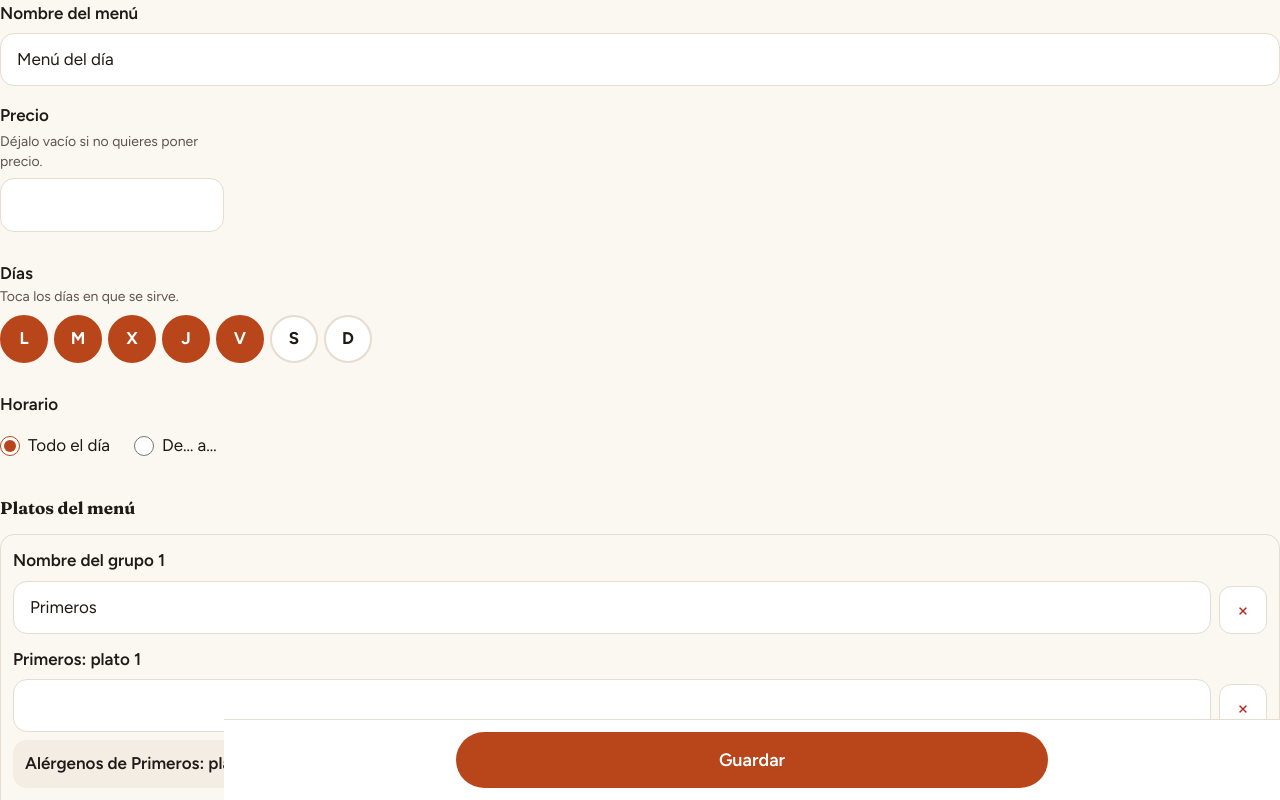
Test case: EditorMenu › no guarda sin días y lo explica
Step 1. Click the button named "Lunes" → (24, 339), box [0,315,48,363]
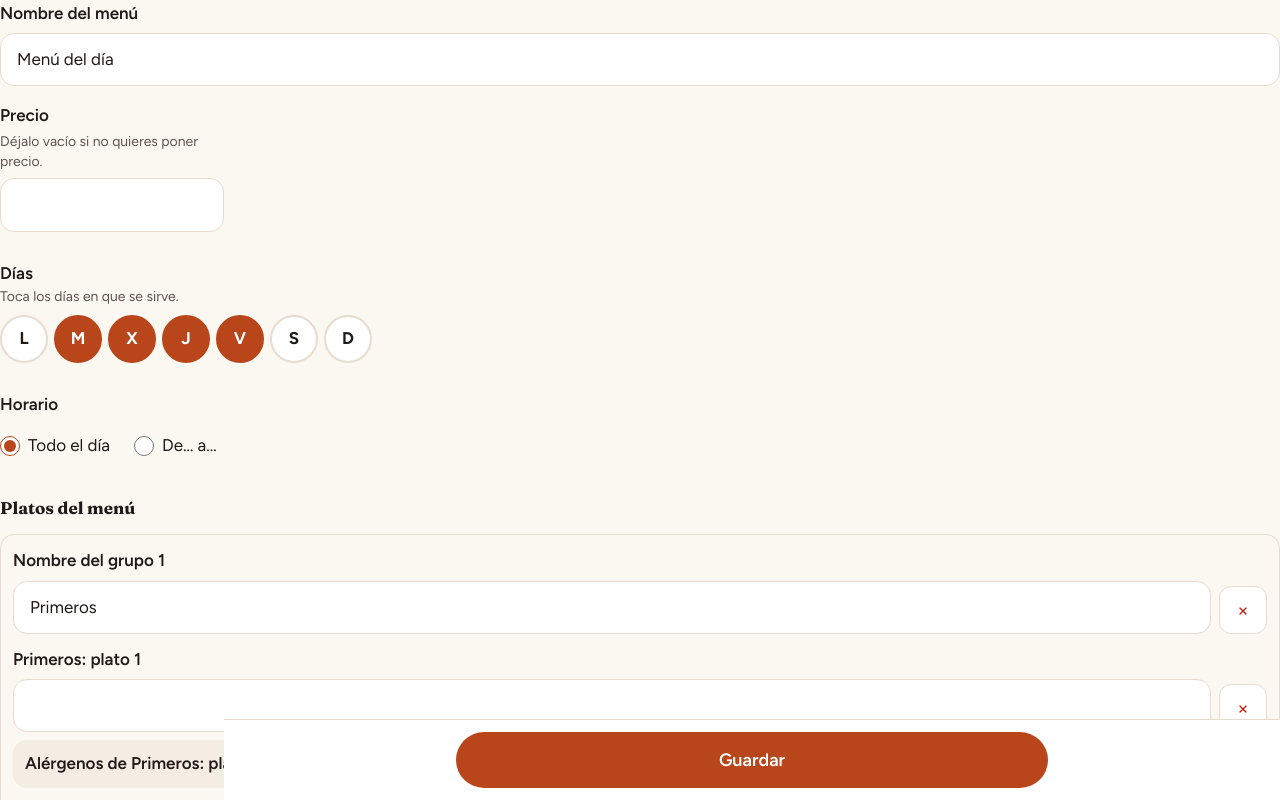
Step 2. Click the button named "Martes" → (78, 339), box [54,315,102,363]
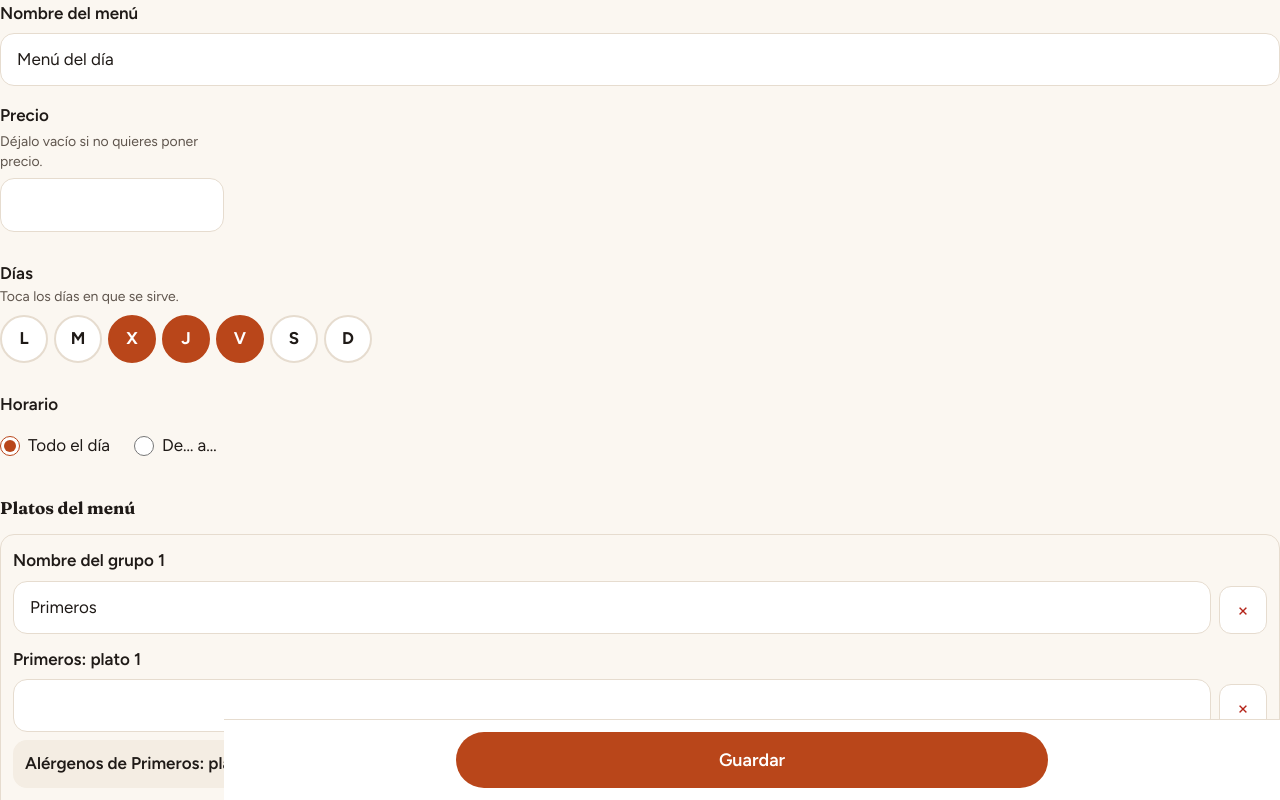
Step 3. Click the button named "Miércoles" → (132, 339), box [108,315,156,363]
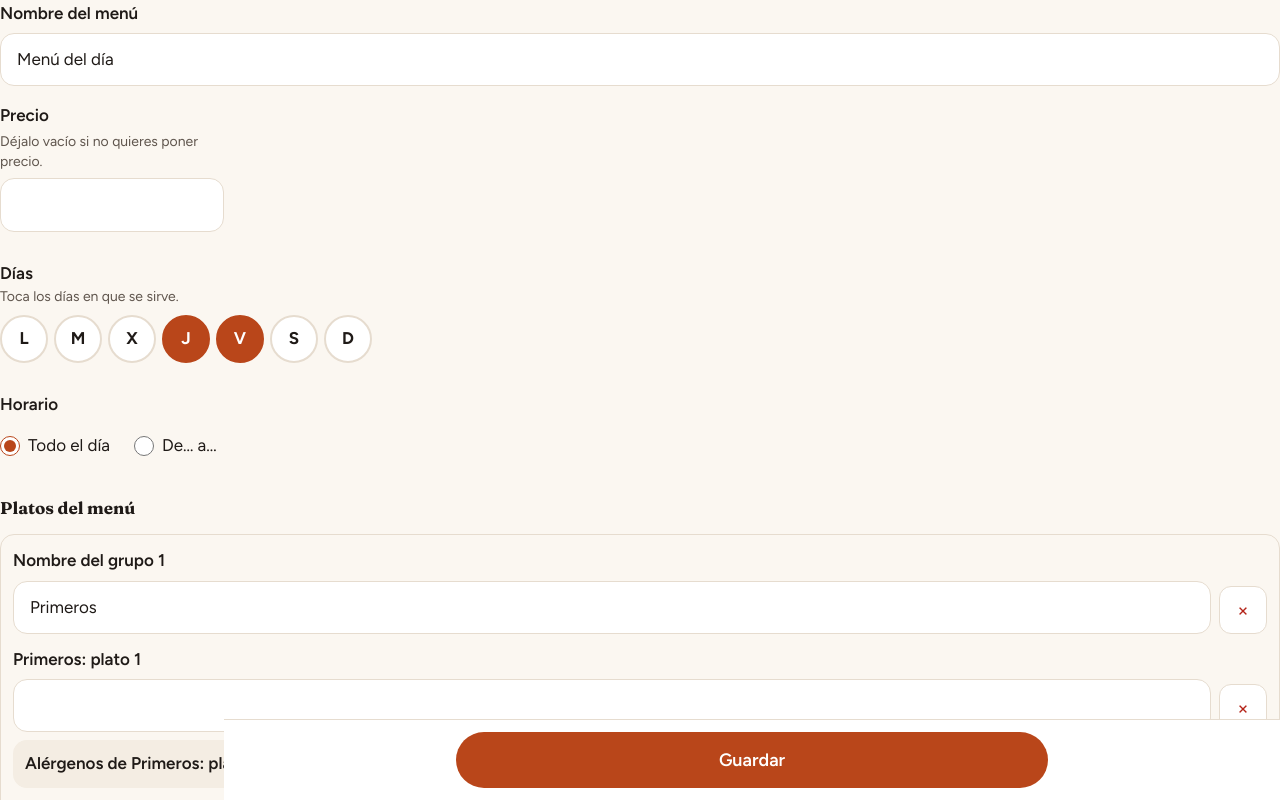
Step 4. Click the button named "Jueves" → (186, 339), box [162,315,210,363]
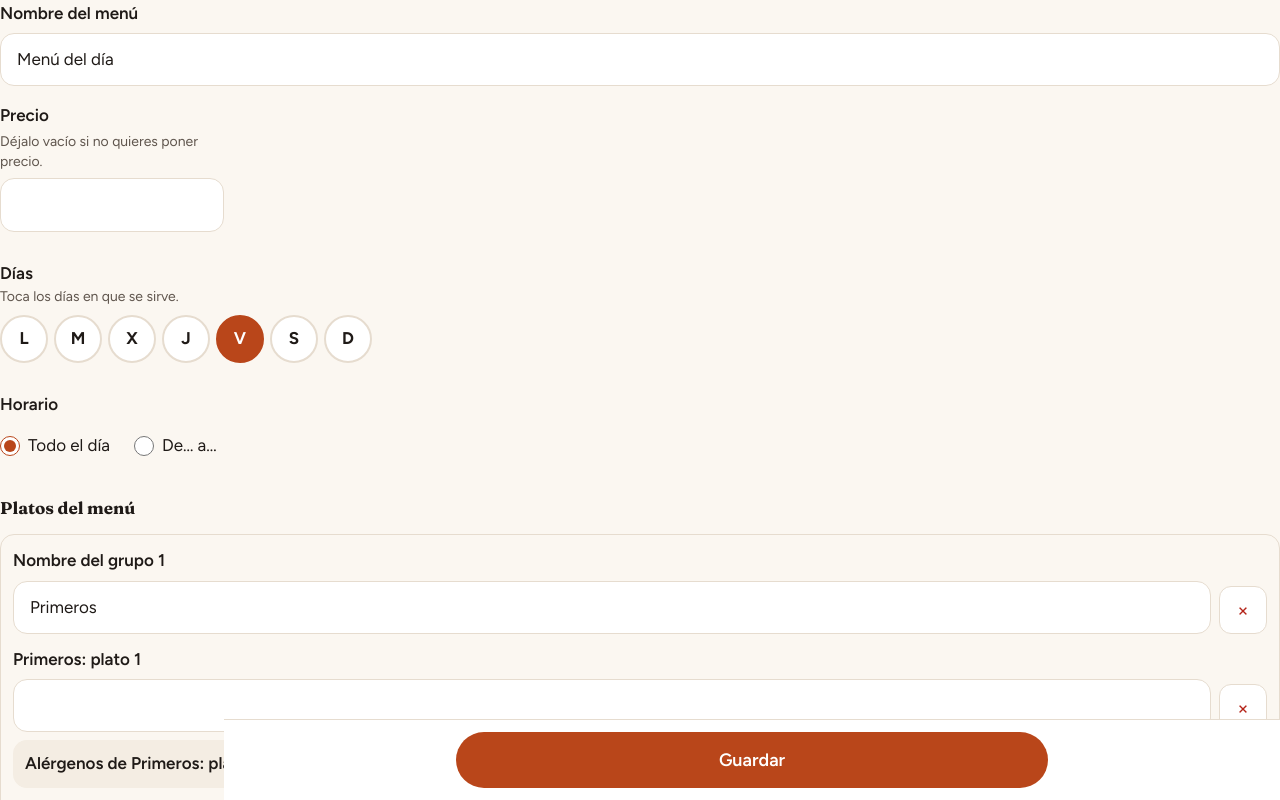
Step 5. Click the button named "Viernes" → (240, 339), box [216,315,264,363]
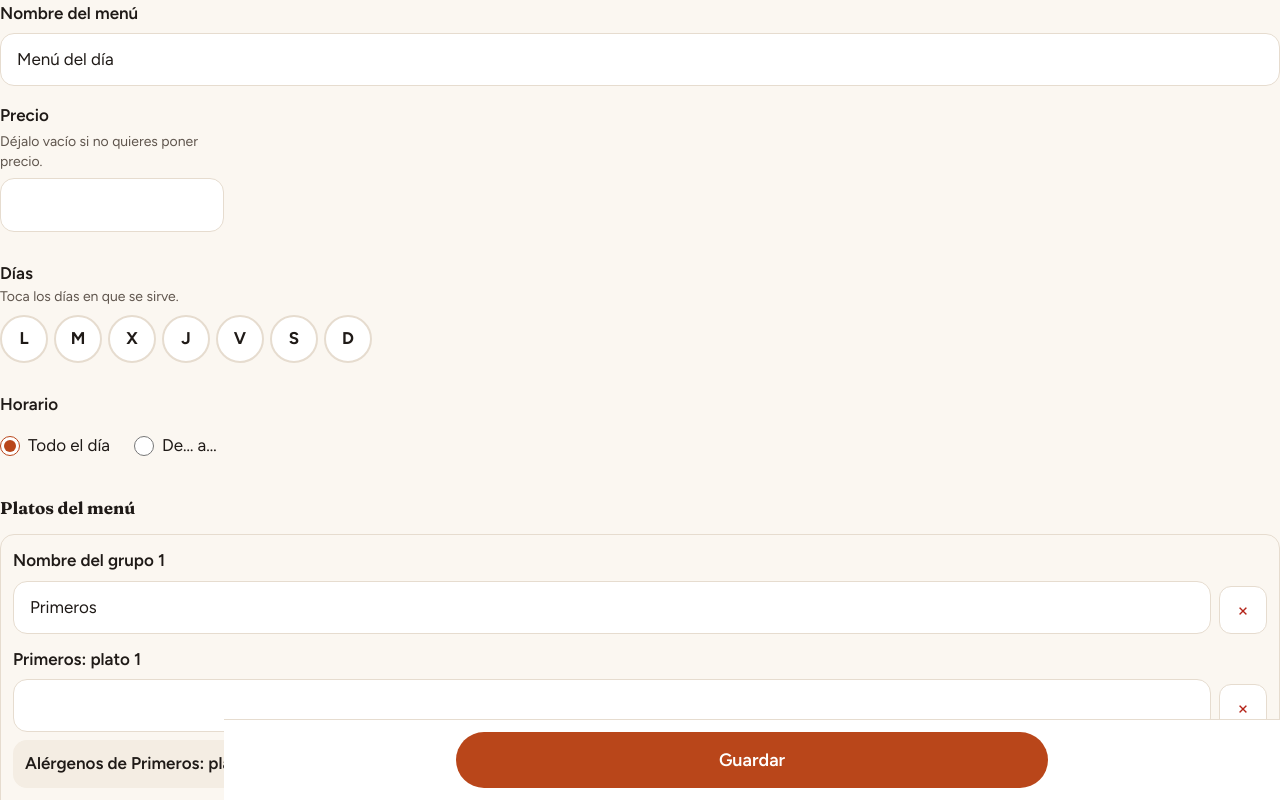
Step 6. Click the button "Guardar" → (752, 760), box [456,732,1048,788]
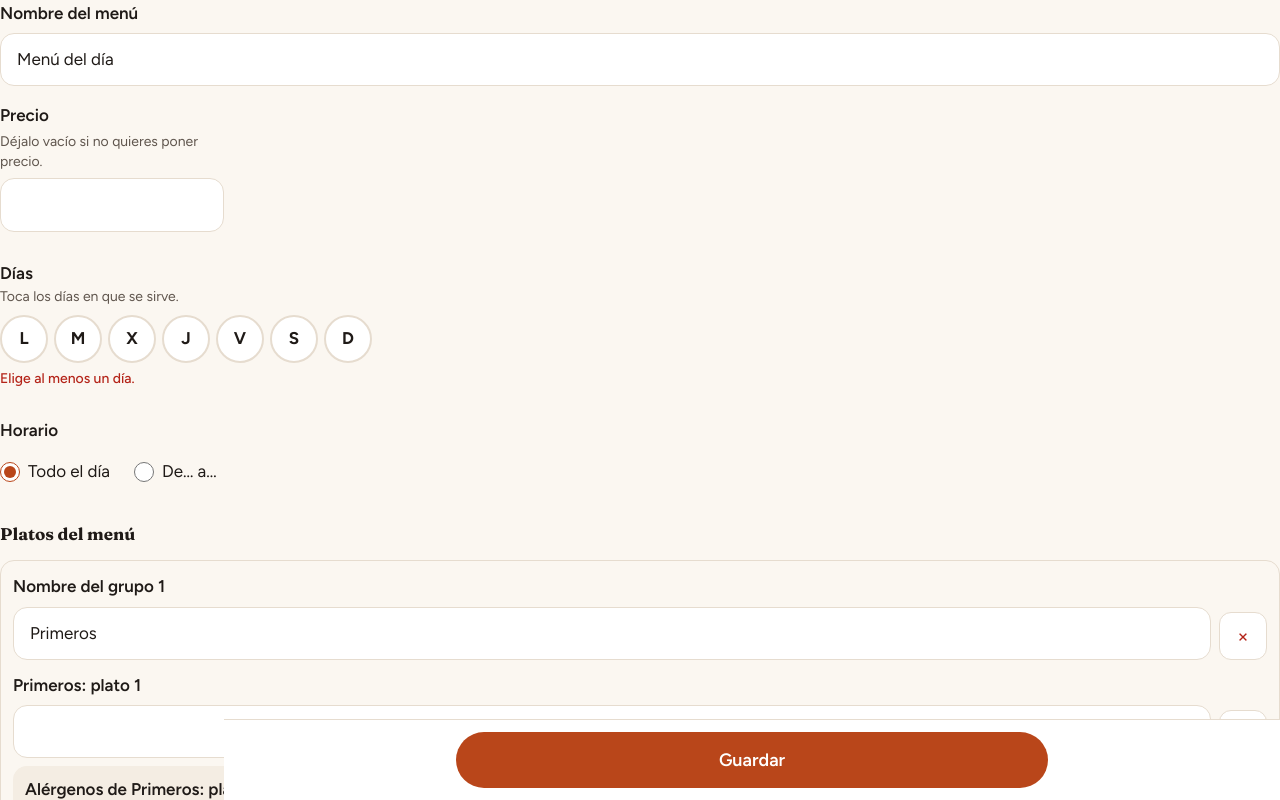
expect the text "Elige al menos un día." is shown: met, box [0,370,135,387]
